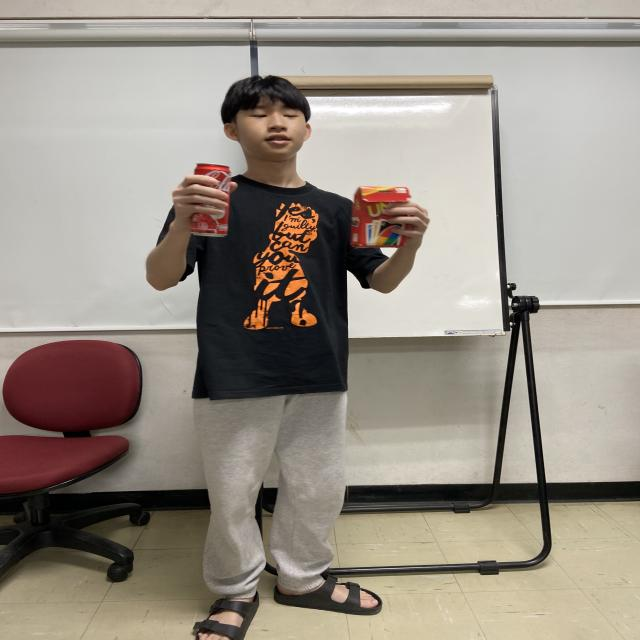can: (189, 162, 232, 238)
